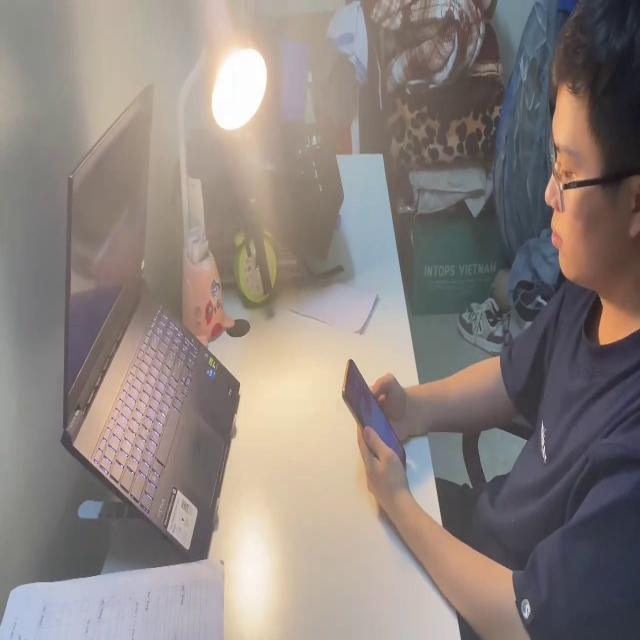book: (0, 552, 226, 640), (280, 265, 383, 337)
laptop: (55, 78, 242, 565)
phone: (338, 352, 414, 487)
student: (346, 0, 640, 640)
